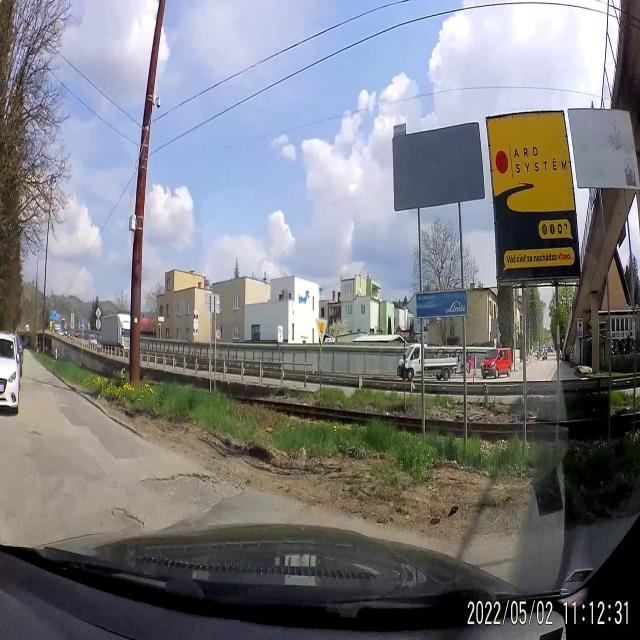Pothole: (138, 464, 232, 499), (106, 506, 146, 534), (28, 426, 42, 437)
